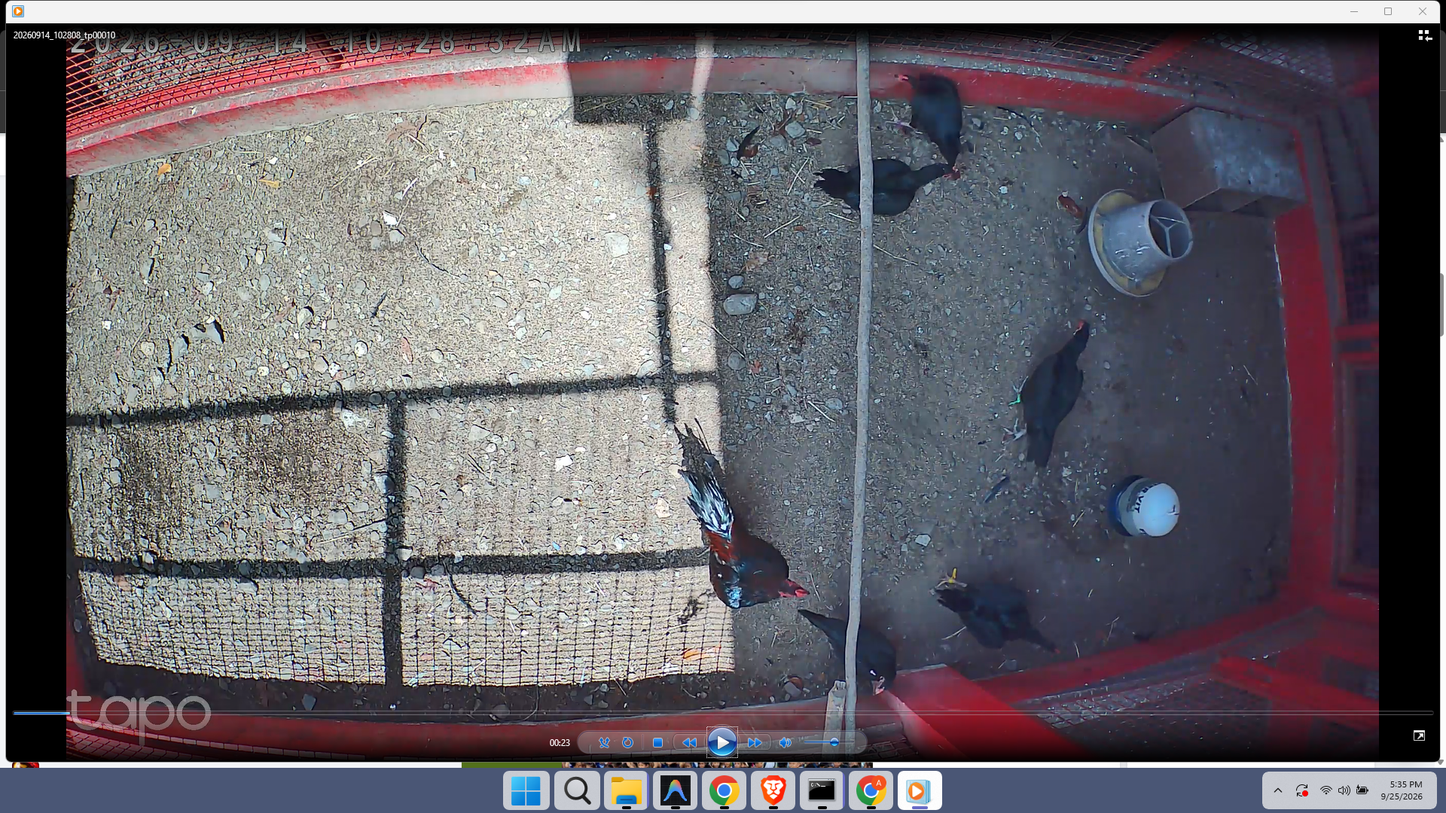Chicken: (1000, 314, 1092, 469), (932, 569, 1064, 659), (798, 608, 905, 695), (815, 156, 955, 217), (889, 66, 963, 165)
Drinker: (1105, 474, 1180, 539)
Feeder: (1085, 184, 1195, 297)
Leg_Band_Green: (1009, 391, 1022, 407)
Leg_Band_Yellow: (949, 564, 959, 586)
Rooster: (678, 468, 812, 605)
